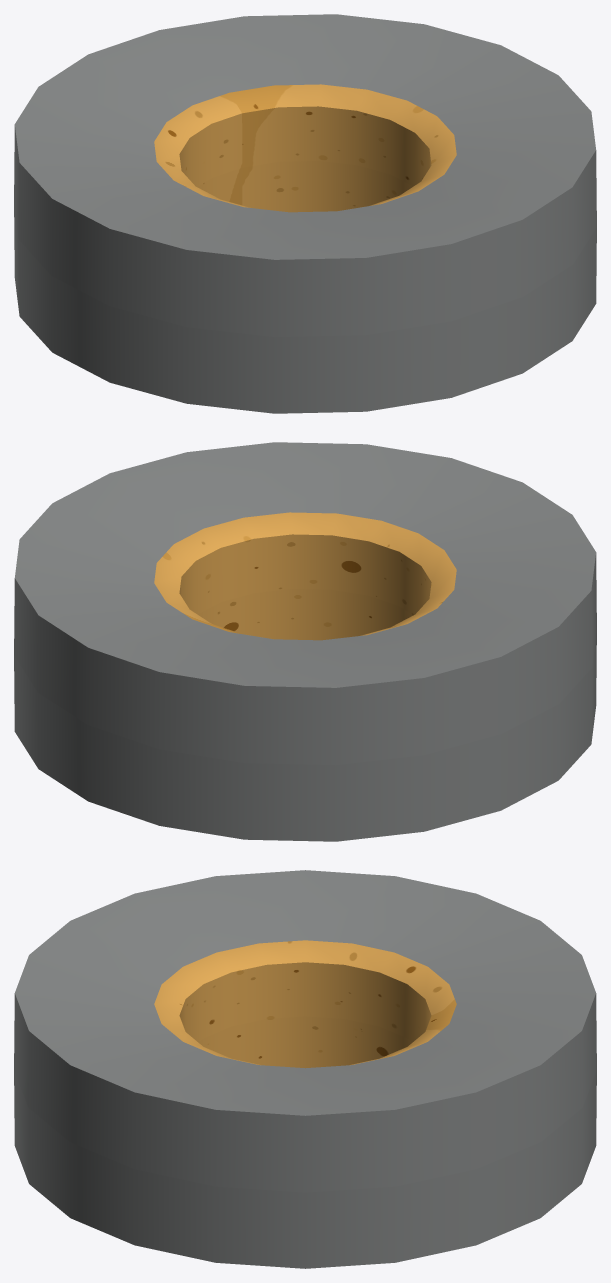
File: Duck_Tape.fbx
3 renders of one model, top to bottom at view 1: azimuth 30°, elevation 25°; view 2: azimuth 150°, elevation 25°; view 3: azimuth 270°, elevation 25°, orthographic.
Parts seen in each view (by area): view 1: pTorus1; view 2: pTorus1; view 3: pTorus1.
Part boxes in pixels (<box>): pTorus1: <box>14,14,596,413</box>; pTorus1: <box>14,442,596,841</box>; pTorus1: <box>14,870,596,1268</box>.
Size of the model in its own units: 3.87 by 1.12 by 3.87.
Materials: 2 (1 with a texture image).
